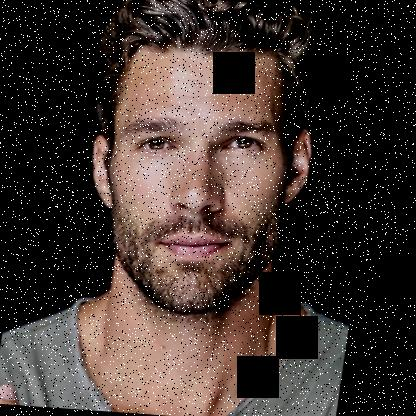Male: (73, 40, 328, 322)
